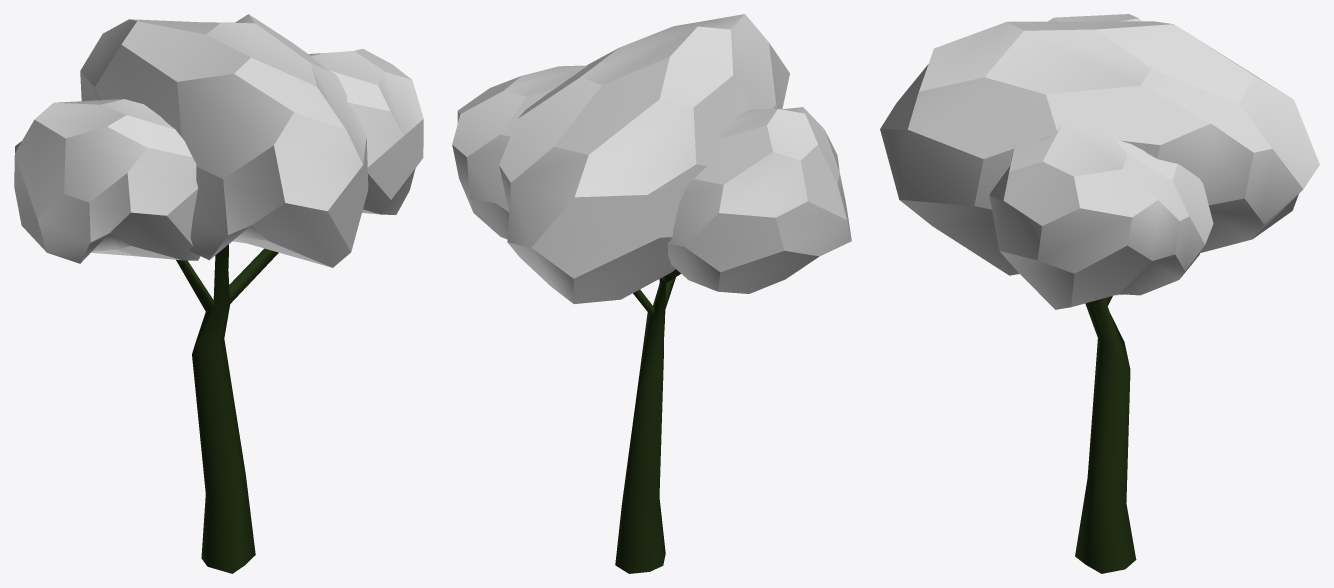
Rendered from low-poly-oak-tree.fbx.
The picture shows the model from 3 angles, left to right: view 1: azimuth 30°, elevation 25°; view 2: azimuth 150°, elevation 25°; view 3: azimuth 270°, elevation 25°; orthographic projection. The views are drawn at different scales.
Parts seen in each view (by area): view 1: Hedra001_3, Circle_Circle; view 2: Hedra001_3, Circle_Circle; view 3: Hedra001_3, Circle_Circle.
Boxes of the visible parts, x1,y1,x2,y2 form: Hedra001_3: [14, 14, 423, 267]; Circle_Circle: [176, 244, 278, 573]; Hedra001_3: [452, 14, 851, 303]; Circle_Circle: [615, 269, 680, 573]; Hedra001_3: [880, 14, 1319, 309]; Circle_Circle: [1075, 296, 1136, 573].
Bounding box in the file's own units: 14.65 × 19.57 × 14.95.
